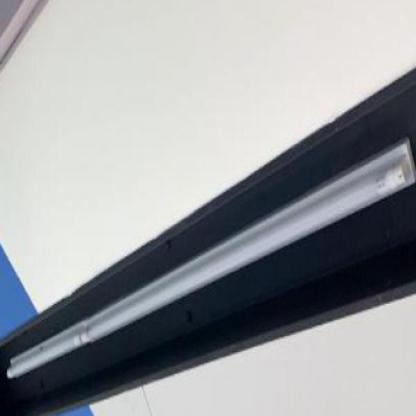light_off: (0, 91, 415, 401)
